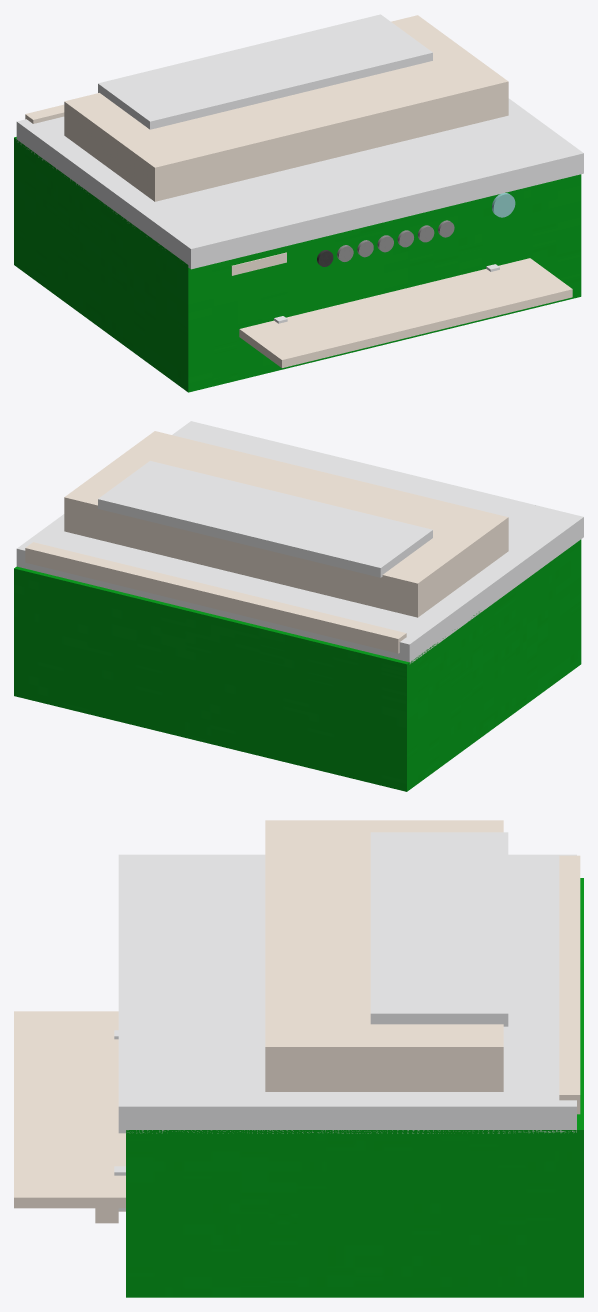
Rendered from Technology_Printer__0103.glb.
3 renders of one model, top to bottom at view 1: azimuth 30°, elevation 25°; view 2: azimuth 150°, elevation 25°; view 3: azimuth 270°, elevation 25°, orthographic. The views are drawn at different scales.
Visible parts, largest first — view 1: body::body_shell, scanner_lid::lid_slab, scanner_lid::adf_upper_cover, scanner_lid::adf_top_tray, body::output_shelf, body::brand_plate; view 2: body::body_shell, scanner_lid::adf_upper_cover, scanner_lid::lid_slab, scanner_lid::adf_top_tray, scanner_lid::adf_rear_hinge_strip; view 3: body::body_shell, scanner_lid::lid_slab, scanner_lid::adf_upper_cover, scanner_lid::adf_top_tray, body::output_shelf, scanner_lid::adf_rear_hinge_strip.
Boxes of the visible parts, x1=… form: body::body_shell: x1=14, y1=137, x2=581, y2=392; scanner_lid::lid_slab: x1=16, y1=98, x2=583, y2=269; scanner_lid::adf_upper_cover: x1=64, y1=15, x2=508, y2=201; scanner_lid::adf_top_tray: x1=98, y1=14, x2=432, y2=129; body::output_shelf: x1=239, y1=258, x2=572, y2=367; body::brand_plate: x1=231, y1=252, x2=286, y2=275; body::body_shell: x1=14, y1=539, x2=581, y2=791; scanner_lid::adf_upper_cover: x1=64, y1=431, x2=508, y2=617; scanner_lid::lid_slab: x1=16, y1=421, x2=583, y2=663; scanner_lid::adf_top_tray: x1=98, y1=461, x2=432, y2=577; scanner_lid::adf_rear_hinge_strip: x1=25, y1=542, x2=406, y2=653; body::body_shell: x1=126, y1=878, x2=583, y2=1297; scanner_lid::lid_slab: x1=118, y1=854, x2=576, y2=1133; scanner_lid::adf_upper_cover: x1=265, y1=820, x2=503, y2=1091; scanner_lid::adf_top_tray: x1=370, y1=832, x2=508, y2=1026; body::output_shelf: x1=14, y1=1011, x2=125, y2=1208; scanner_lid::adf_rear_hinge_strip: x1=559, y1=855, x2=580, y2=1114.
Size of the model in its own units: 0.5064 by 0.2331 by 0.4842.
Materials: 9 (5 with a texture image).
